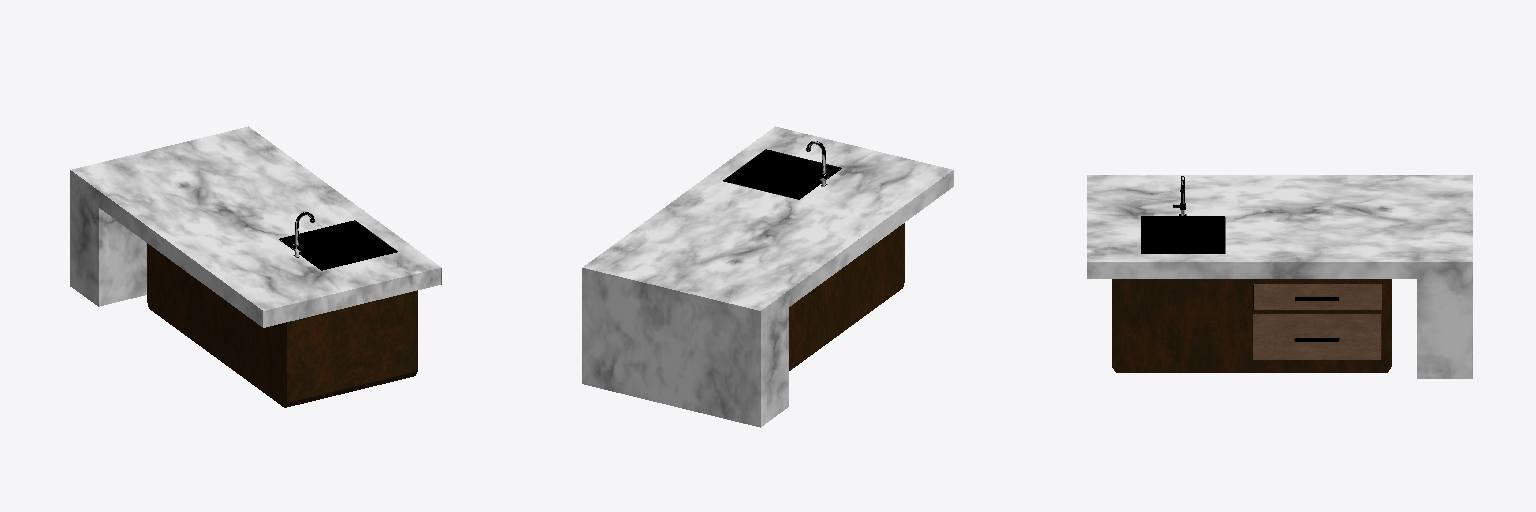
3 renders of one model, left to right at view 1: azimuth 30°, elevation 25°; view 2: azimuth 150°, elevation 25°; view 3: azimuth 270°, elevation 25°, orthographic.
Parts seen in each view (by area): view 1: Bake; view 2: Bake; view 3: Bake.
Boxes of the visible parts, box(x1,y1,x2,y2) form: Bake: box(70, 126, 441, 407); Bake: box(582, 126, 953, 427); Bake: box(1087, 175, 1472, 378).
Bounding box in the file's own units: 3.2 × 2.72 × 6.
Materials: 1 (1 with a texture image).